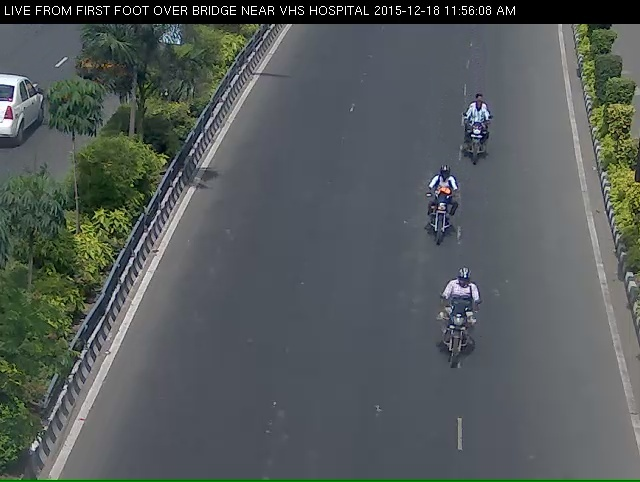Person: (431, 283, 504, 397), (458, 98, 499, 174), (428, 175, 459, 265)
